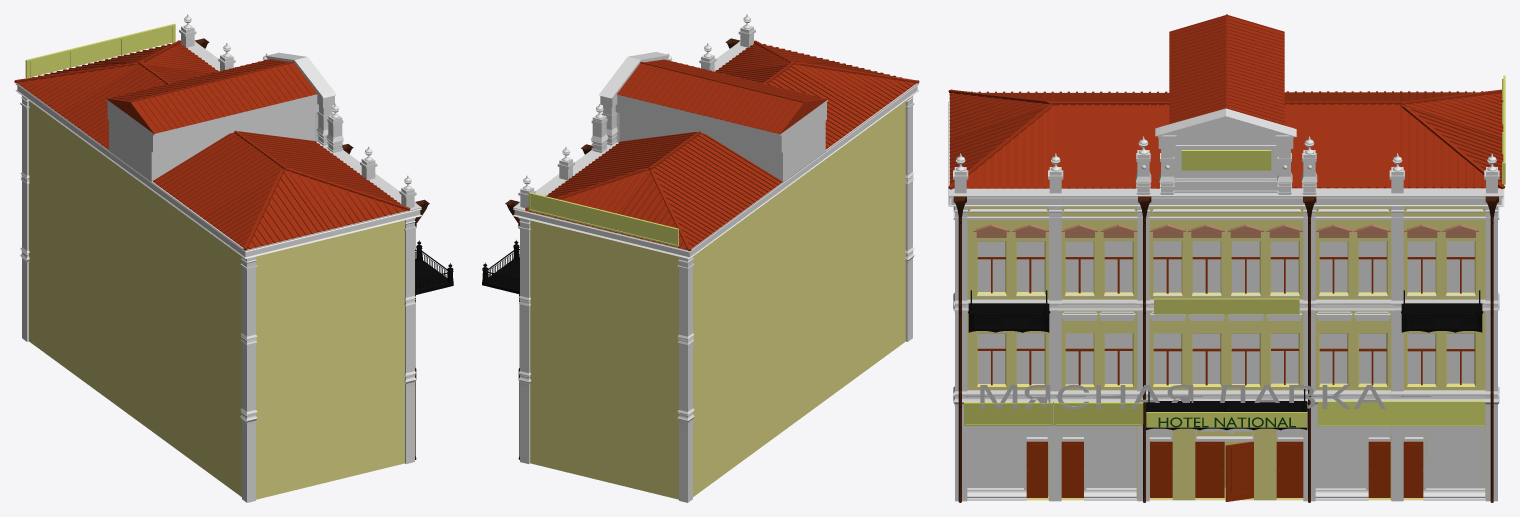
The model's file is hotel.fbx.
3 renders of one model, left to right at view 1: azimuth 30°, elevation 25°; view 2: azimuth 150°, elevation 25°; view 3: azimuth 270°, elevation 25°, orthographic. The views are drawn at different scales.
Visible parts, largest first — view 1: Base, Roof_3, Superstructure, Roof_2, Roof_4, Roof_1, Column_7, Signboard_7, Column_1, Column_8, Balcony_1, Column_13; view 2: Base, Roof_4, Superstructure, Roof_2, Roof_3, Roof_1, Column_8, Signboard_7, Column_2, Column_7, Balcony_2, Column_14; view 3: Base, Roof_4, Roof_3, Roof_2, Roof_1, Superstructure, Decor_1, Signboard_2, Column_6, Column_3, Inscription_4.1, Column_2 (+37 smaller).
Boxes of the visible parts, x1,y1,x2,y2 form: Base: (29, 101, 404, 499); Roof_3: (153, 130, 410, 250); Superstructure: (106, 52, 336, 181); Roof_2: (106, 59, 317, 133); Roof_4: (14, 40, 217, 149); Roof_1: (15, 41, 421, 258); Column_7: (240, 256, 257, 502); Signboard_7: (25, 23, 175, 78); Column_1: (404, 218, 416, 463); Column_8: (20, 96, 29, 341); Balcony_1: (415, 240, 453, 294); Column_13: (326, 103, 343, 152); Base: (530, 101, 905, 499); Roof_4: (525, 131, 782, 250); Superstructure: (599, 52, 827, 181); Roof_2: (616, 59, 827, 134); Roof_3: (715, 40, 919, 149); Roof_1: (513, 41, 919, 258); Column_8: (677, 256, 694, 502); Signboard_7: (528, 192, 678, 246); Column_2: (518, 218, 530, 463); Column_7: (905, 96, 914, 341); Balcony_2: (482, 240, 519, 294); Column_14: (591, 103, 608, 152); Base: (967, 206, 1485, 500); Roof_4: (1284, 89, 1505, 188); Roof_3: (948, 89, 1169, 189); Roof_2: (1169, 14, 1284, 125); Roof_1: (948, 92, 1504, 206); Superstructure: (1155, 108, 1296, 194); Decor_1: (973, 224, 1478, 237); Signboard_2: (1317, 401, 1485, 426); Column_6: (1047, 206, 1062, 501); Column_3: (1390, 206, 1404, 501); Inscription_4.1: (980, 384, 1385, 409); Column_2: (1484, 206, 1499, 501).
Bounding box in the file's own units: 380 × 529 × 688.
